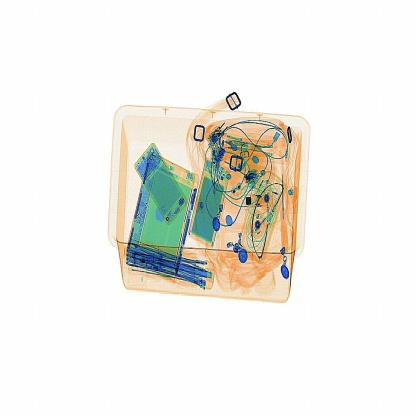wrench: (280, 168, 291, 251)
